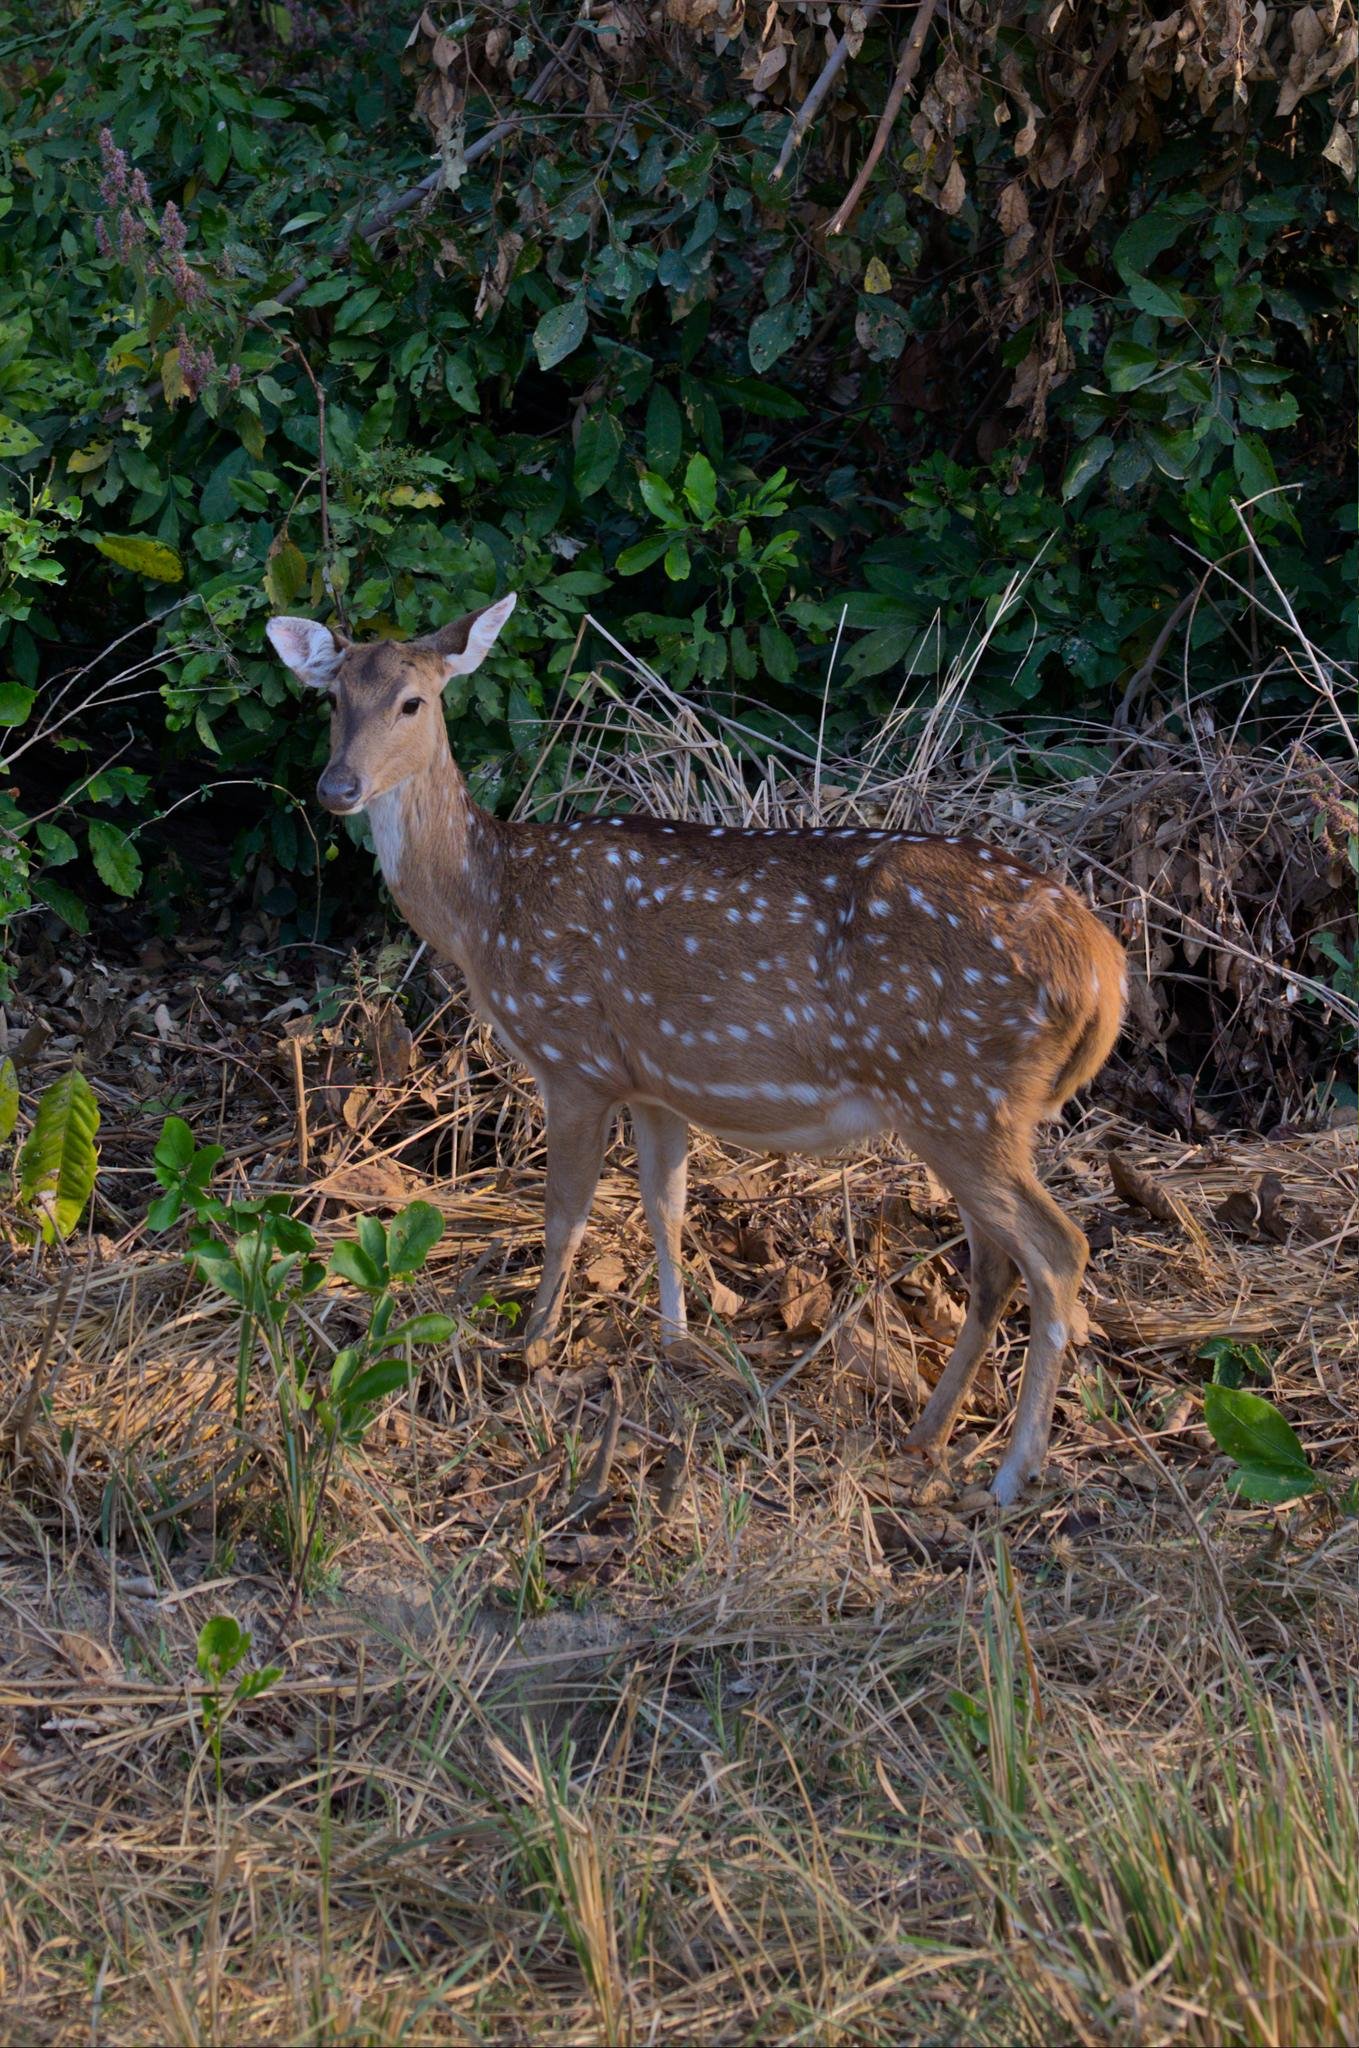Deer: (267, 594, 1125, 1504)
